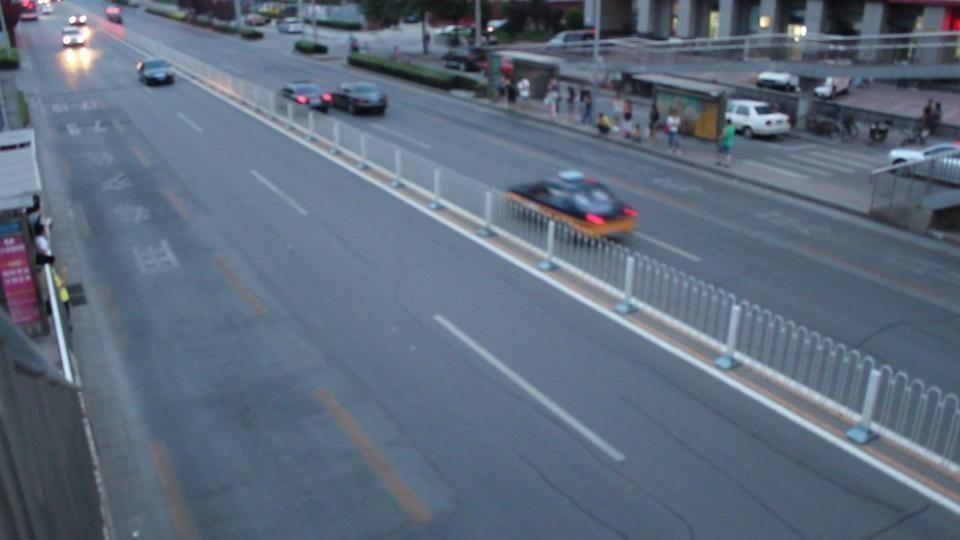car: (504, 169, 639, 243), (725, 99, 792, 139), (884, 142, 960, 177), (322, 81, 389, 116), (279, 81, 328, 112), (541, 29, 599, 53), (135, 58, 176, 87), (755, 71, 798, 94), (812, 76, 851, 99), (60, 25, 90, 47), (278, 17, 305, 34), (105, 2, 124, 23), (19, 0, 38, 20), (67, 12, 90, 26)
